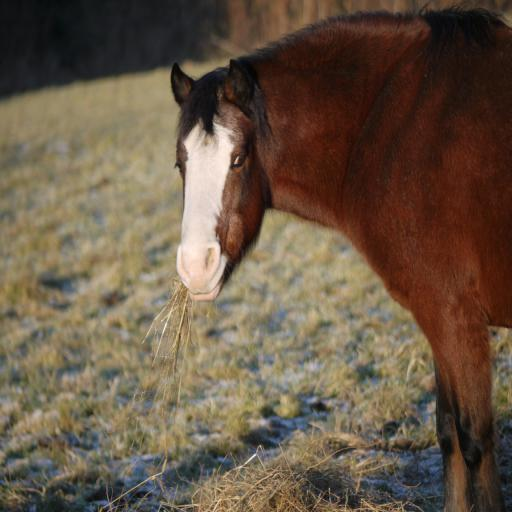horse: (170, 0, 512, 512)
